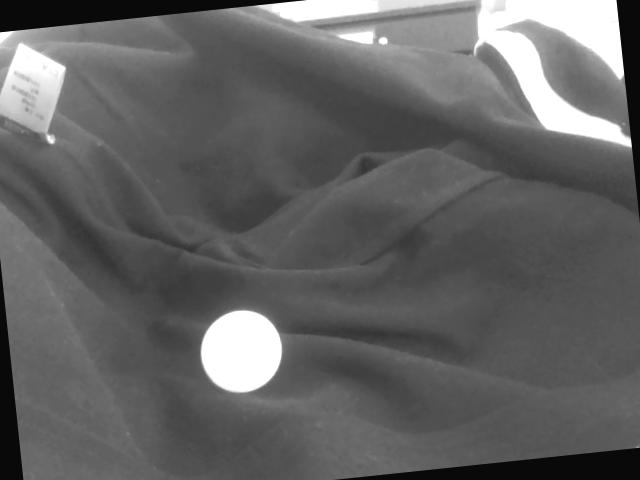ball: (196, 308, 286, 396)
